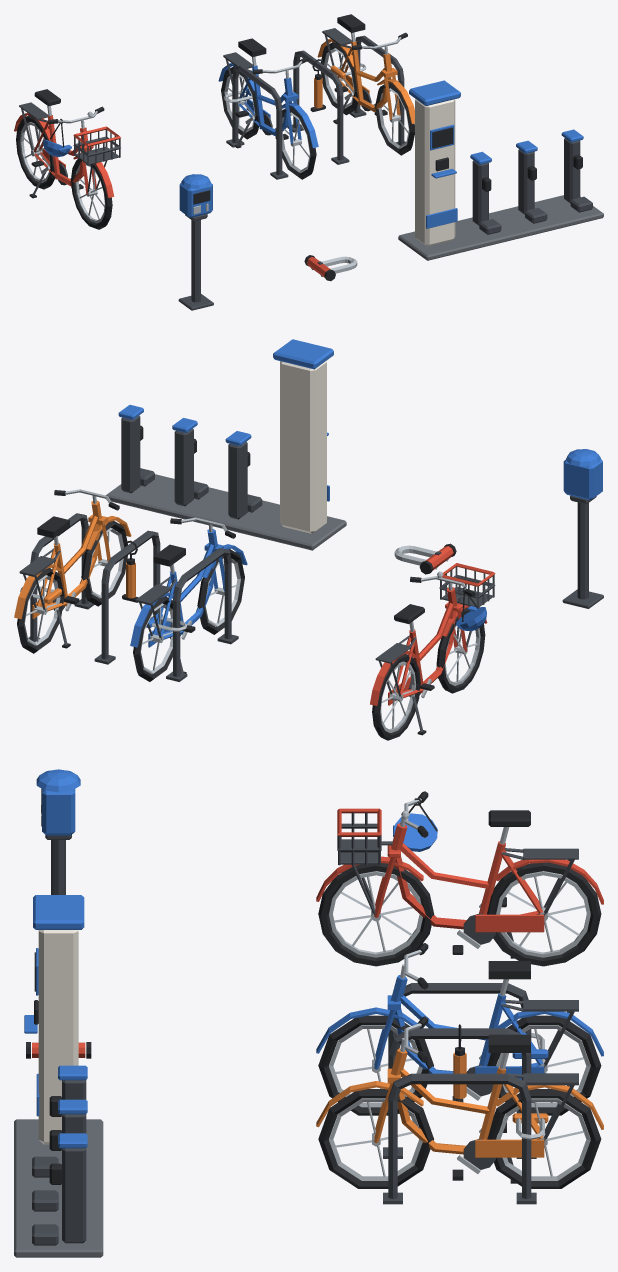
Rendered from city-bike-props.glb.
3 renders of one model, top to bottom at view 1: azimuth 30°, elevation 25°; view 2: azimuth 150°, elevation 25°; view 3: azimuth 270°, elevation 25°, orthographic. The views are drawn at different scales.
Parts seen in each view (by area): view 1: BikeShare_Body, BikeRack_Body, Bicycle_Frame, ParkingMeter_Body, Wheel_Front, Wheel_Rear, BikeLock_Body; view 2: BikeShare_Body, BikeRack_Body, Bicycle_Frame, ParkingMeter_Body, Wheel_Rear, Wheel_Front, BikeLock_Body; view 3: BikeRack_Body, BikeShare_Body, Bicycle_Frame, Wheel_Front, Wheel_Rear, ParkingMeter_Body.
Part boxes in pixels (x1,y1,x2,y2): BikeShare_Body: [398, 80, 603, 260]; BikeRack_Body: [218, 14, 414, 179]; Bicycle_Frame: [14, 89, 120, 198]; ParkingMeter_Body: [178, 174, 213, 310]; Wheel_Front: [71, 158, 112, 229]; Wheel_Rear: [16, 115, 55, 189]; BikeLock_Body: [304, 255, 357, 281]; BikeShare_Body: [106, 339, 346, 550]; BikeRack_Body: [14, 489, 247, 681]; Bicycle_Frame: [370, 563, 495, 735]; ParkingMeter_Body: [562, 449, 603, 608]; Wheel_Rear: [372, 653, 420, 740]; Wheel_Front: [436, 607, 485, 693]; BikeLock_Body: [394, 543, 456, 574]; BikeRack_Body: [316, 943, 603, 1204]; BikeShare_Body: [14, 895, 103, 1257]; Bicycle_Frame: [316, 791, 603, 958]; Wheel_Front: [318, 863, 433, 966]; Wheel_Rear: [487, 862, 601, 966]; ParkingMeter_Body: [36, 769, 80, 894].
Size of the model in its own units: 16.82 by 5.84 by 13.23.
